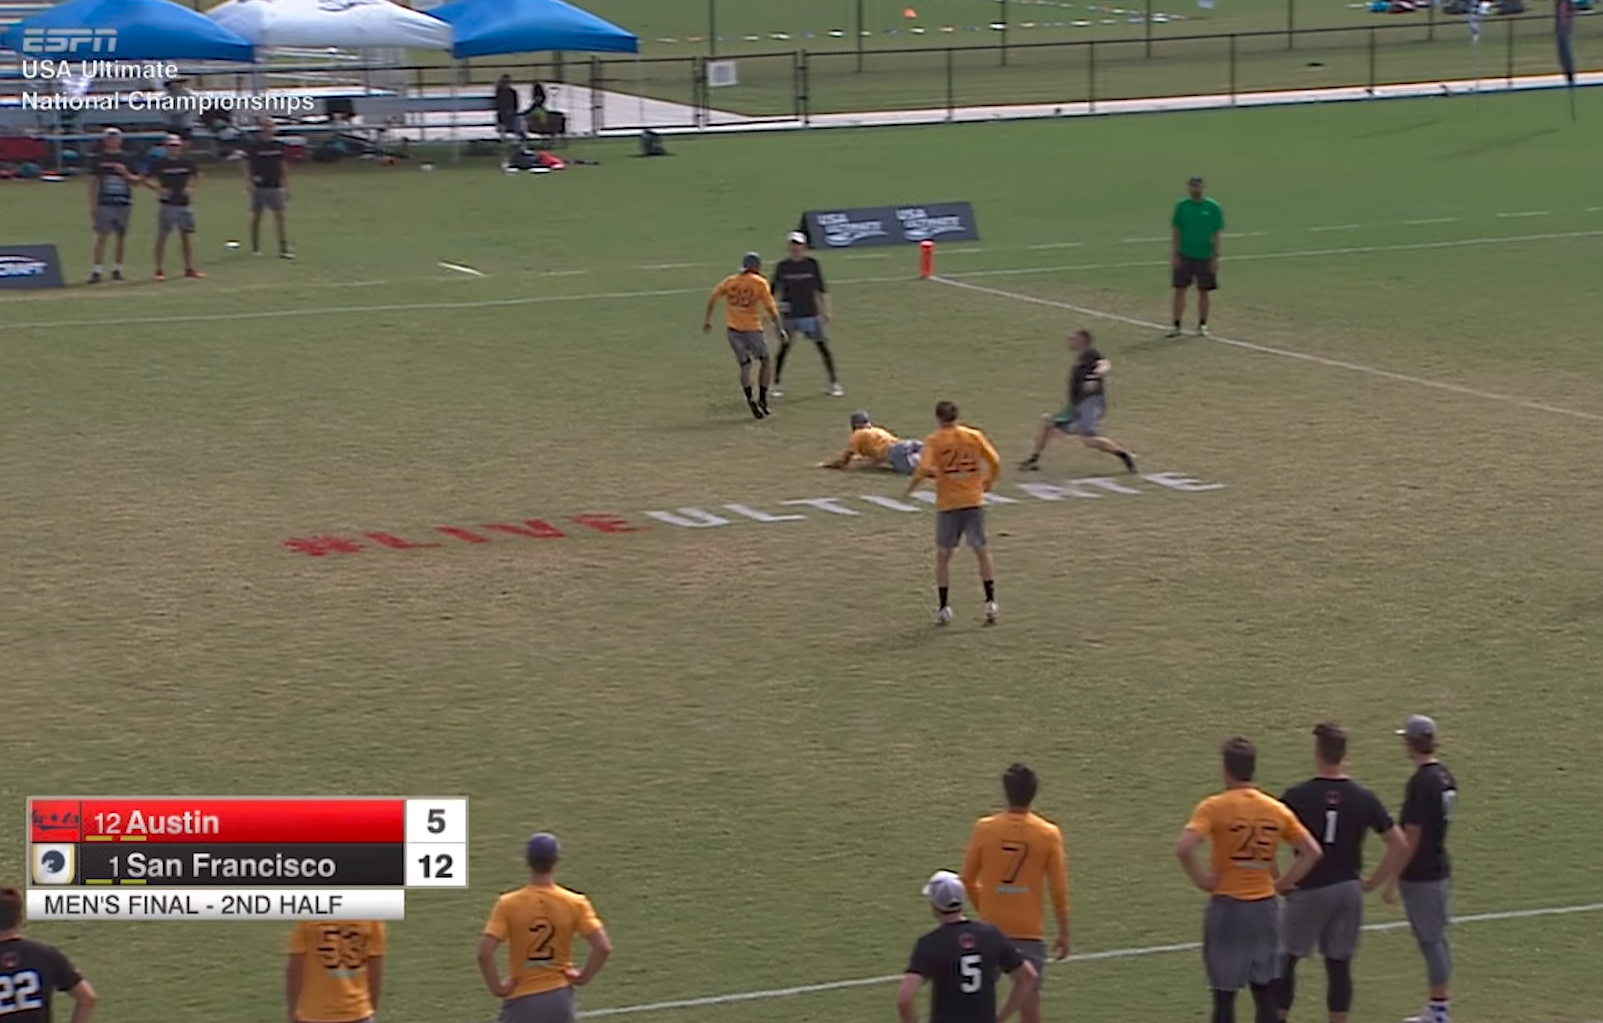frisbee: (437, 259, 485, 278)
